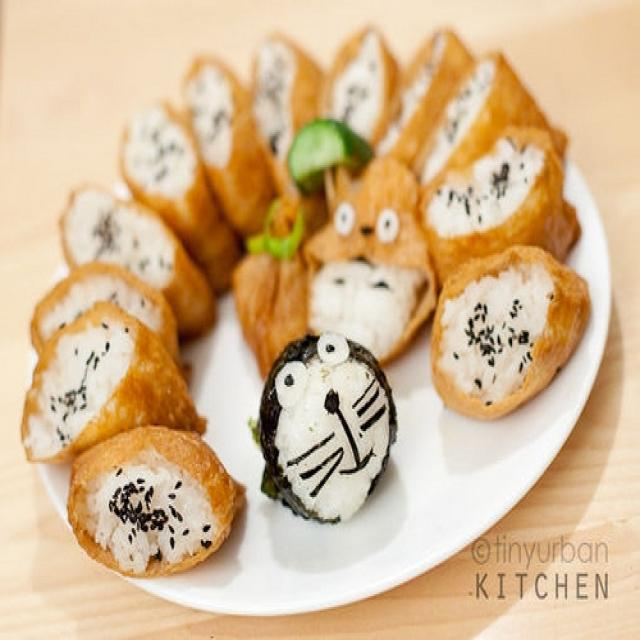寿司卷物: (19, 24, 617, 614)
